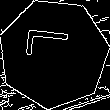L_E: (27, 35, 80, 72)
